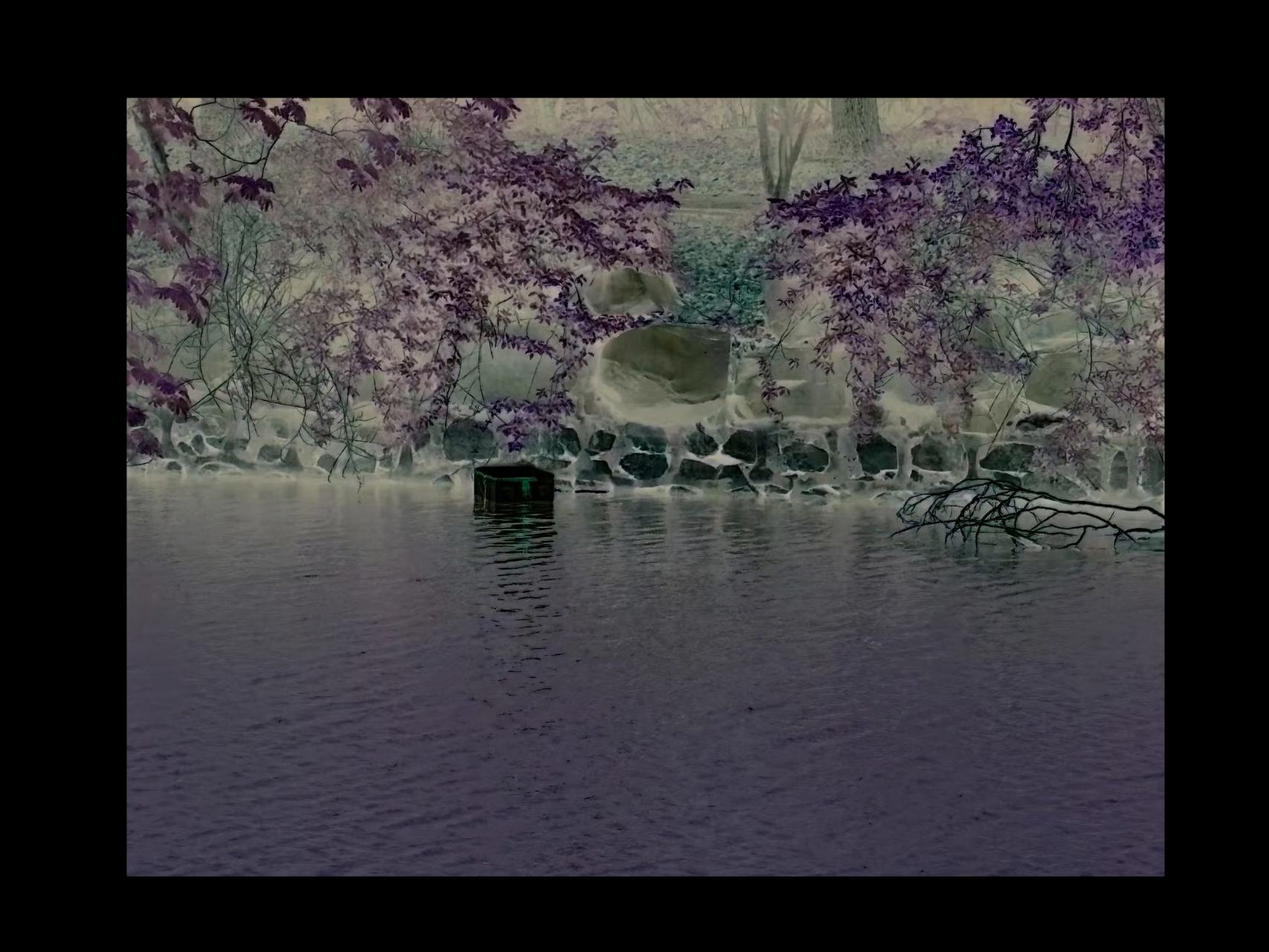Plastic wastes: (465, 461, 559, 518)
